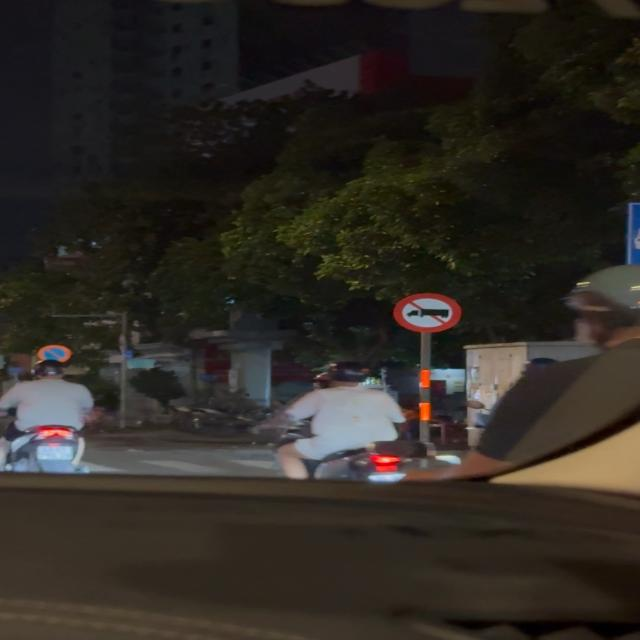Bien bao cam do xe: (37, 342, 79, 368)
Bien bao cam xe so-mi ro-mooc: (388, 292, 464, 336)
